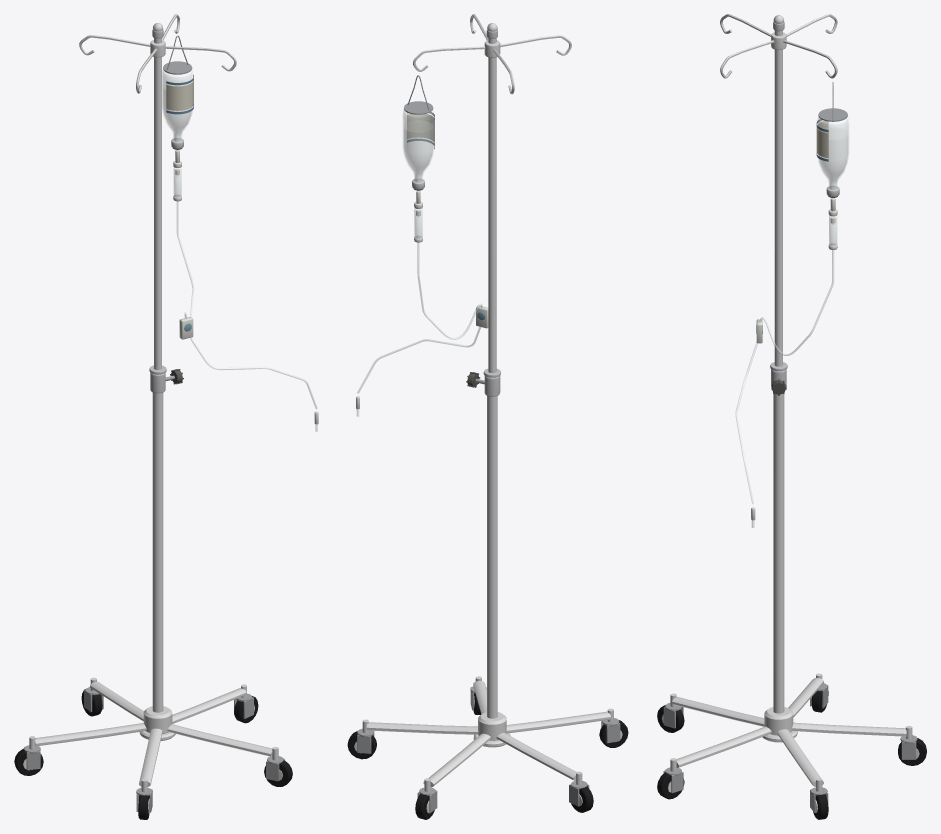
Rendered from hosp_perfusion.glb.
The picture shows the model from 3 angles, left to right: view 1: azimuth 30°, elevation 25°; view 2: azimuth 150°, elevation 25°; view 3: azimuth 270°, elevation 25°; orthographic projection.
Parts seen in each view (by area): view 1: pied, mat, flacon, tubulure, potence; view 2: pied, mat, flacon, tubulure, potence; view 3: pied, mat, flacon, tubulure, potence.
Part boxes in pixels (box(x1,y1,x2,y2)): pied: box(14, 677, 292, 819); mat: box(149, 23, 183, 712); flacon: box(162, 35, 193, 149); tubulure: box(173, 150, 318, 431); potence: box(79, 14, 236, 93); pied: box(347, 676, 628, 819); mat: box(466, 23, 500, 718); flacon: box(403, 75, 434, 190); tubulure: box(356, 190, 488, 416); potence: box(413, 14, 571, 94); pied: box(657, 673, 926, 819); mat: box(770, 15, 787, 713); flacon: box(816, 82, 848, 197); tubulure: box(735, 198, 837, 527); potence: box(720, 14, 837, 78).
Size of the model in its own units: 0.7372 by 1.94 by 0.6324.
